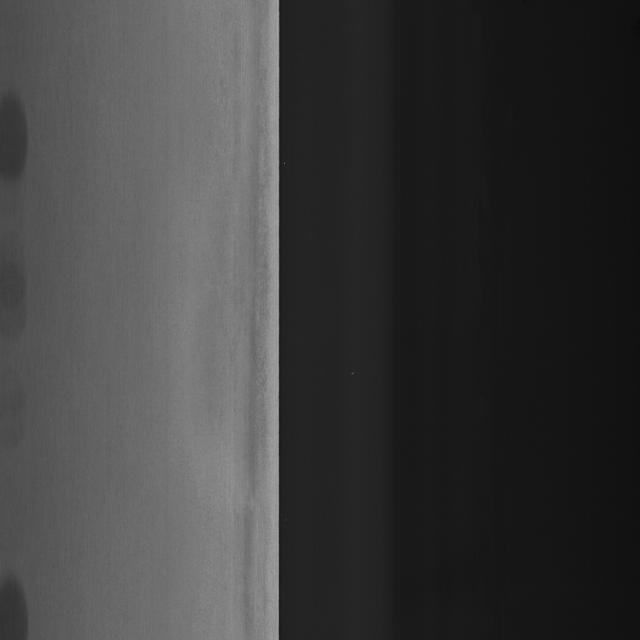welding_line: (0, 241, 35, 466), (0, 80, 38, 192), (0, 527, 31, 636)
